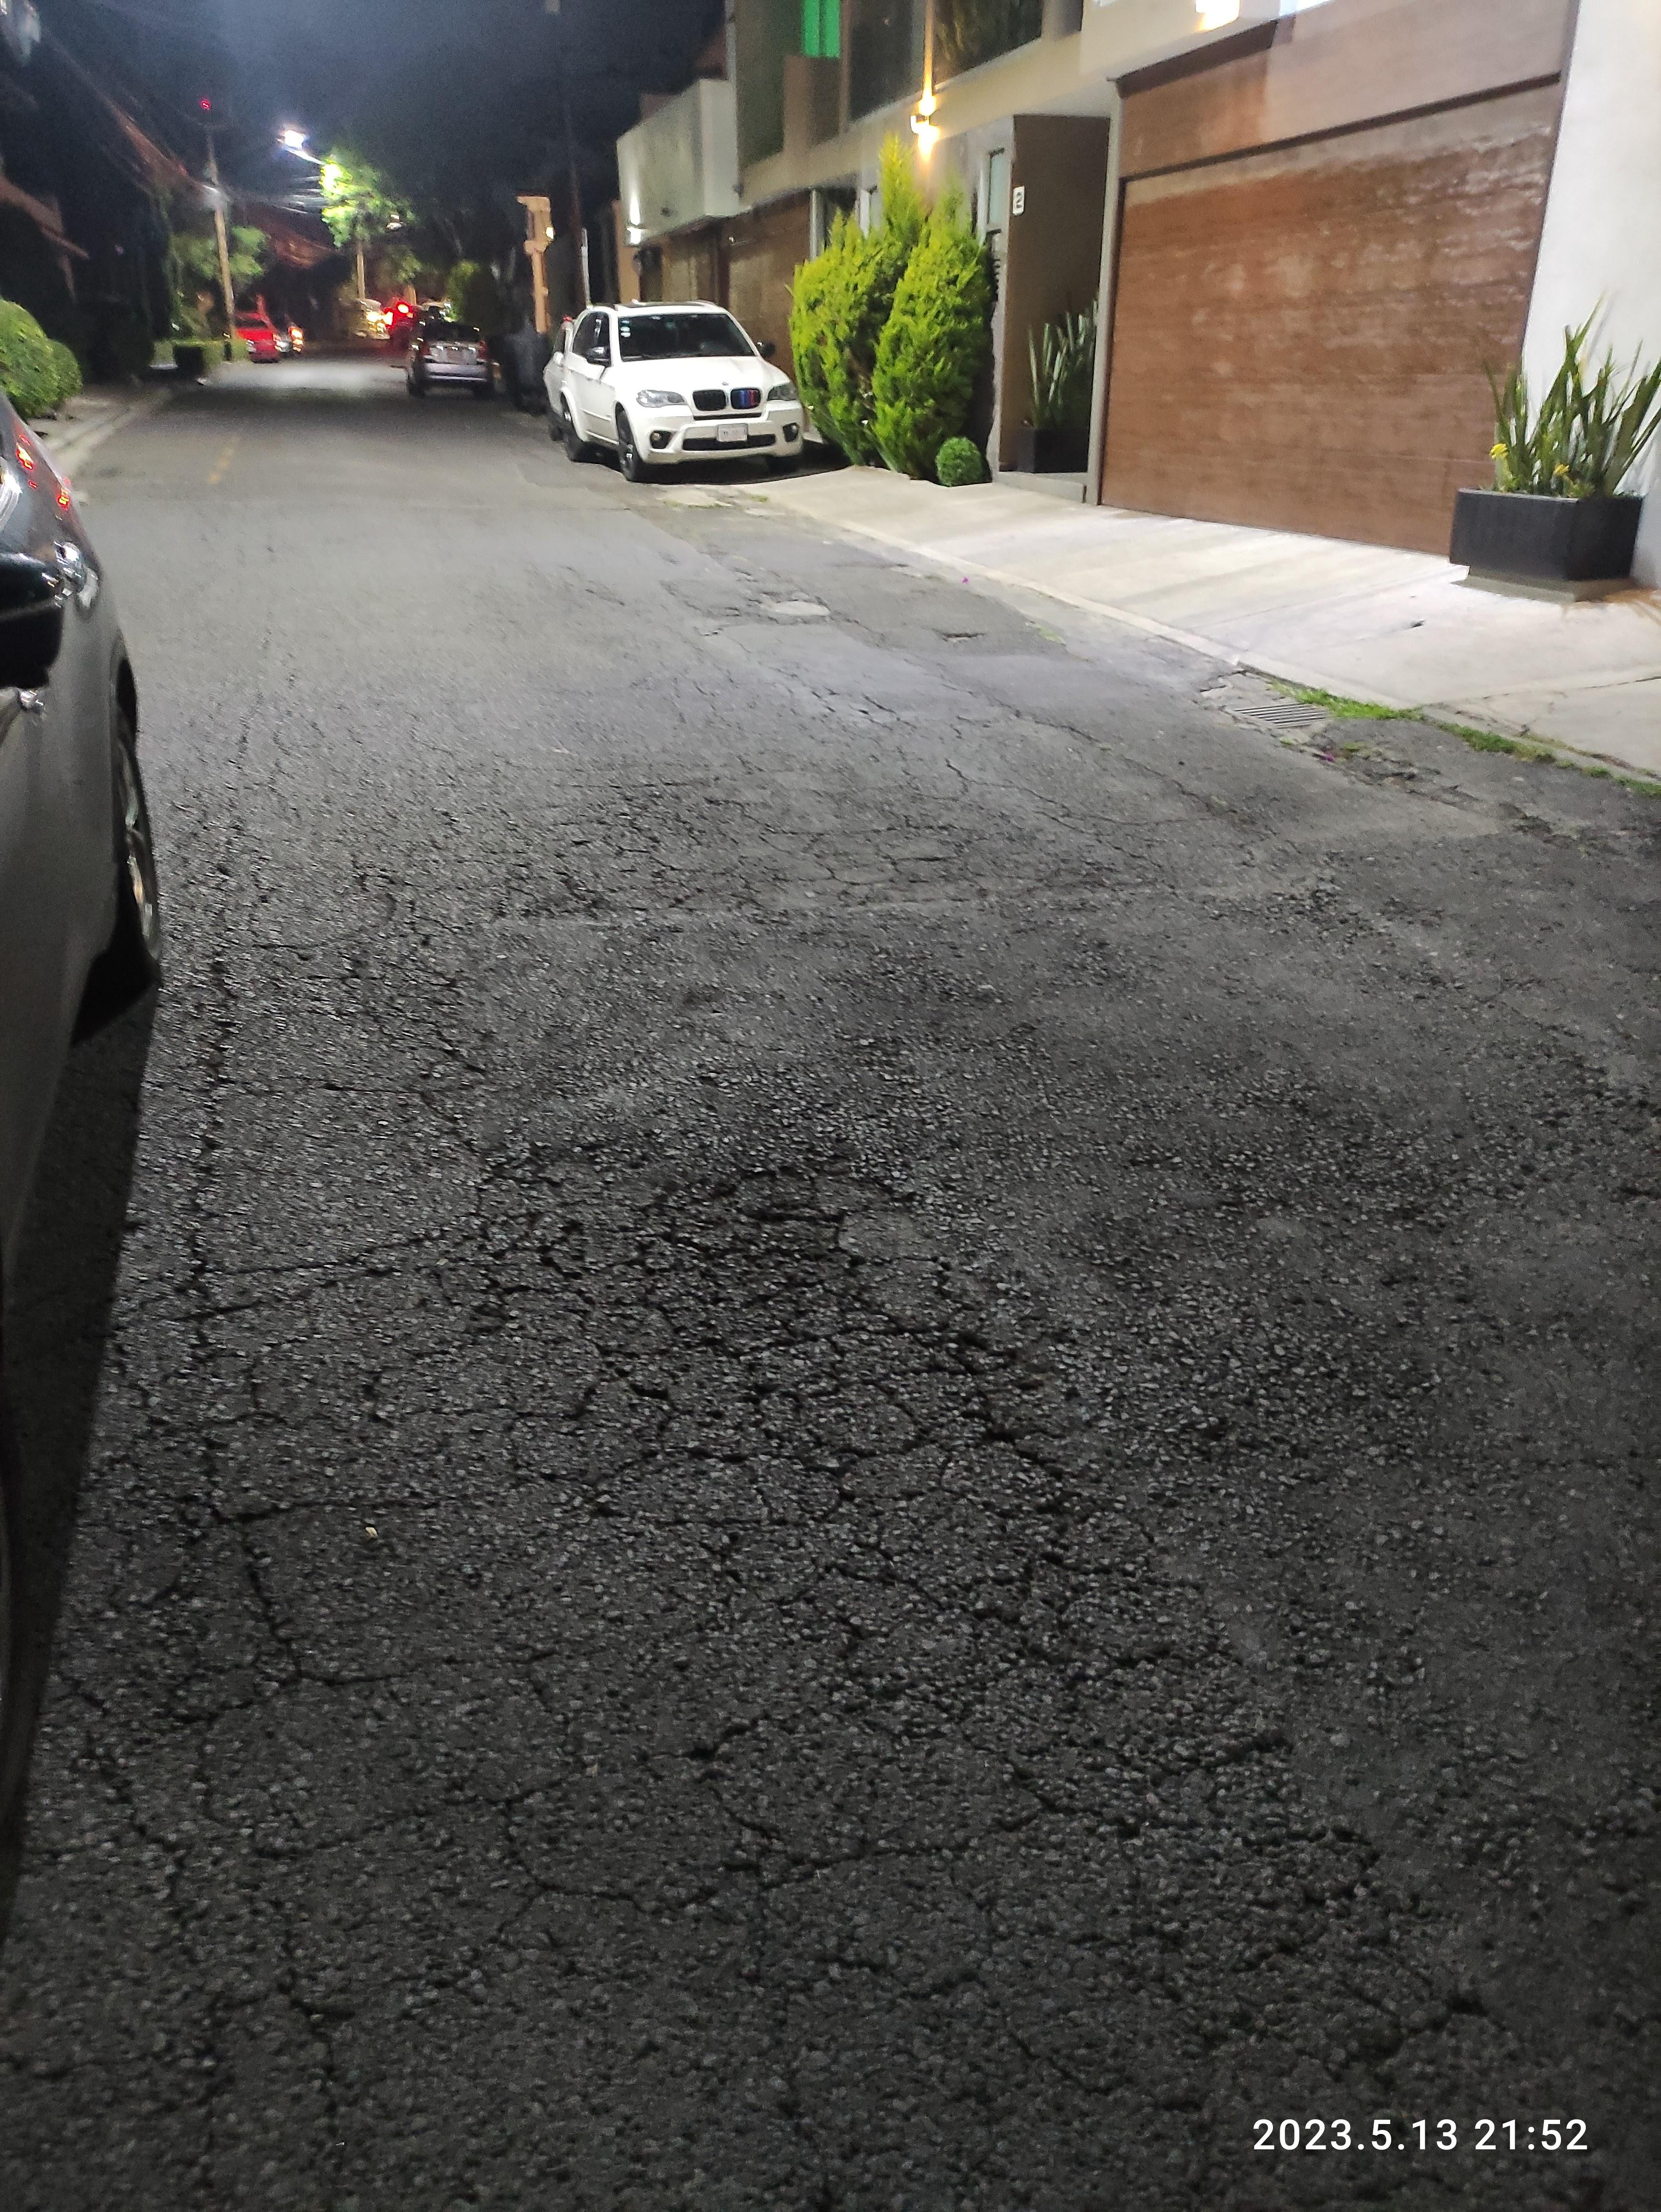alligator-crack: (483, 1059, 1202, 1992), (818, 1469, 820, 1579)
crack: (134, 1656, 762, 2160), (1120, 823, 1661, 1185), (106, 848, 356, 1486), (1244, 1710, 1504, 2209)
